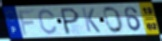6: (124, 6, 142, 32)
C: (37, 8, 59, 36)
F: (17, 9, 36, 36)
K: (80, 8, 102, 34)
O: (103, 6, 125, 34)
P: (60, 6, 81, 35)
